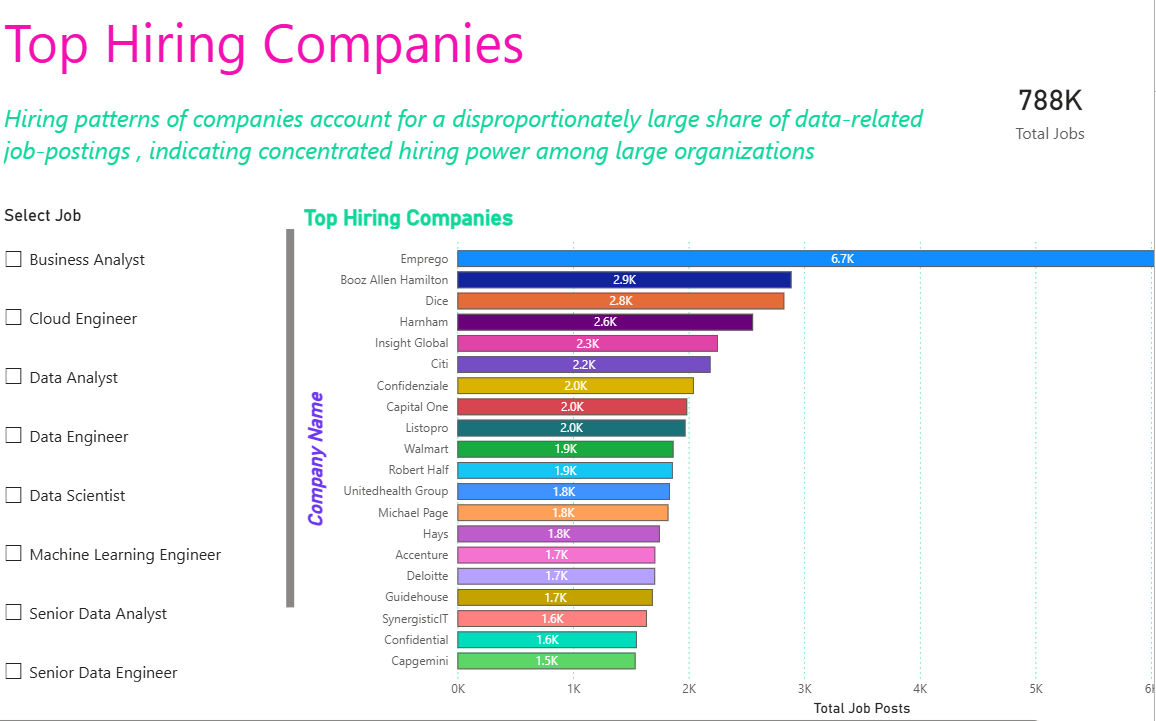

Layout of this report page (visuals, bound fields, positions):
{"tool":"powerbi","page":{"name":"top hiring companies","canvas":[1280,720],"ordinal":5},"visuals":[{"type":"barChart","title":"Top Hiring Companies","fields":{"Category":["public bi_top_hiring_companies.company_name"],"Y":["Sum(public bi_top_hiring_companies.job_count)"],"Series":["public bi_top_hiring_companies.company_name"]},"box":[300.5,204.5,979.8,516],"z":0},{"type":"listSlicer","fields":{"Values":["public bi_top_hiring_companies.job_title_short"]},"box":[0,204.5,300.5,502.2],"z":1000},{"type":"card","fields":{"Values":["Sum(public bi_top_hiring_companies.job_count)"]},"box":[950,12.5,202.5,192.5],"z":2000},{"type":"textbox","box":[0,96.1,949.6,96.1],"z":3000},{"type":"textbox","box":[0,0,860.4,96.1],"z":4000}]}

Visuals, with their boxes on the page's 1280x720 design canvas (x1, y1, x2, y2). These are canvas units, not pixel positions in the 1156x721 screenshot, which may show the page scaled, cropped or inside an application window:
"Top Hiring Companies" barChart: 300, 204, 1280, 720
listSlicer - public bi_top_hiring_companies.job_title_short: 0, 204, 300, 707
card - Sum(public bi_top_hiring_companies.job_count): 950, 12, 1152, 205
textbox: 0, 96, 950, 192
textbox: 0, 0, 860, 96
